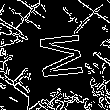M_W: (30, 33, 84, 84)
